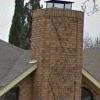Chimney: (31, 0, 90, 59)
